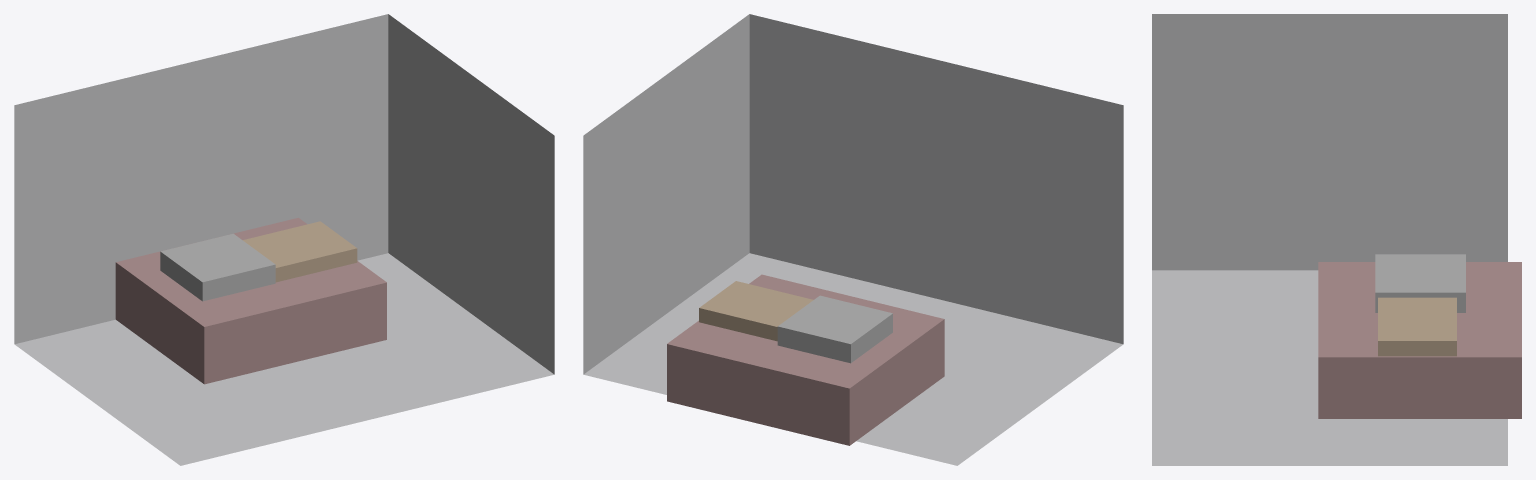
File: current_layout.glb
3 renders of one model, left to right at view 1: azimuth 30°, elevation 25°; view 2: azimuth 150°, elevation 25°; view 3: azimuth 270°, elevation 25°, orthographic. The views are drawn at different scales.
Visible parts, largest first — view 1: room, bed, dustbin, desk; view 2: room, bed, dustbin, desk; view 3: room, bed, desk, dustbin.
Boxes of the visible parts, bbox=[...] form: room: bbox=[14, 14, 554, 465]; bed: bbox=[115, 217, 386, 384]; dustbin: bbox=[160, 233, 275, 301]; desk: bbox=[243, 221, 357, 282]; room: bbox=[583, 14, 1123, 465]; bed: bbox=[667, 274, 944, 445]; dustbin: bbox=[777, 295, 892, 363]; desk: bbox=[699, 281, 813, 341]; room: bbox=[1152, 14, 1507, 465]; bed: bbox=[1318, 262, 1521, 418]; desk: bbox=[1378, 297, 1456, 356]; dustbin: bbox=[1375, 254, 1465, 312].
Bounding box in the file's own units: 4.09 × 2.5 × 3.27.
